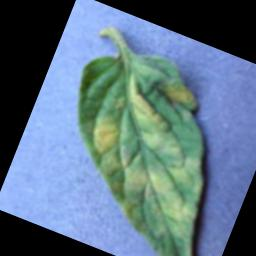Leaf_Mold: (24, 29, 256, 256)
